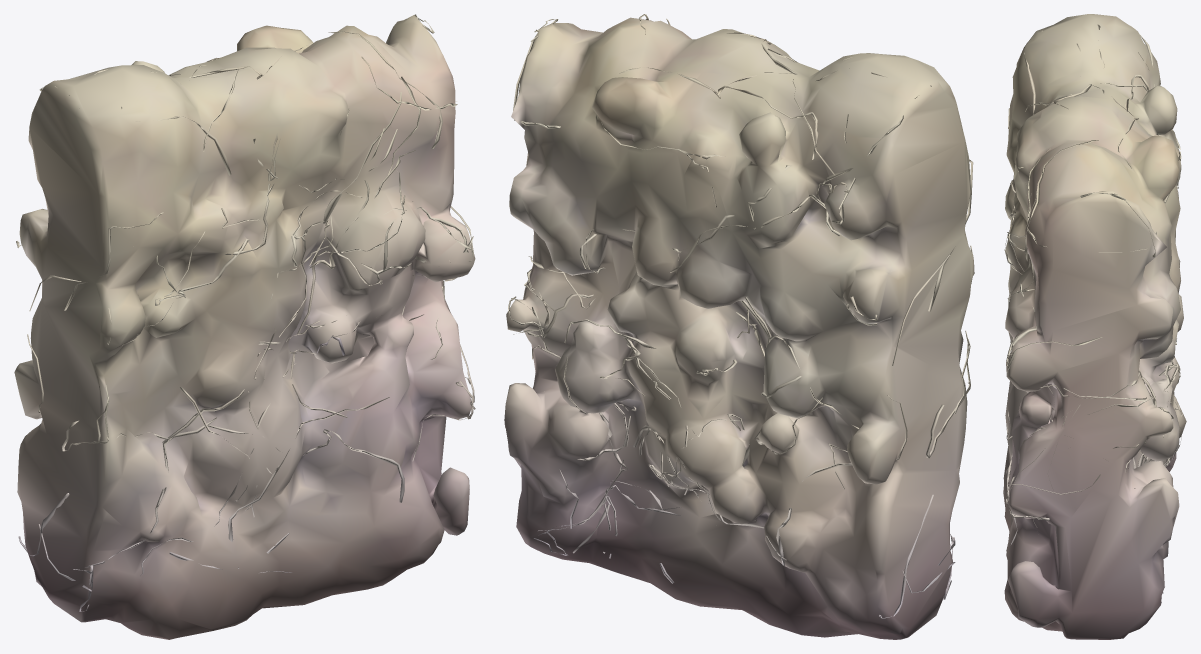
Rendered from labirent_duvar_a.glb.
3 renders of one model, left to right at view 1: azimuth 30°, elevation 25°; view 2: azimuth 150°, elevation 25°; view 3: azimuth 270°, elevation 25°, orthographic. The views are drawn at different scales.
Parts seen in each view (by area): view 1: labirent_duvar_a_LOD0; view 2: labirent_duvar_a_LOD0; view 3: labirent_duvar_a_LOD0.
Part boxes in pixels (bbox=[...]): labirent_duvar_a_LOD0: bbox=[14, 14, 475, 639]; labirent_duvar_a_LOD0: bbox=[504, 14, 974, 639]; labirent_duvar_a_LOD0: bbox=[1003, 14, 1186, 639].
Size of what is drawn, in the model's own units: 3.5 by 4.97 by 1.67.
